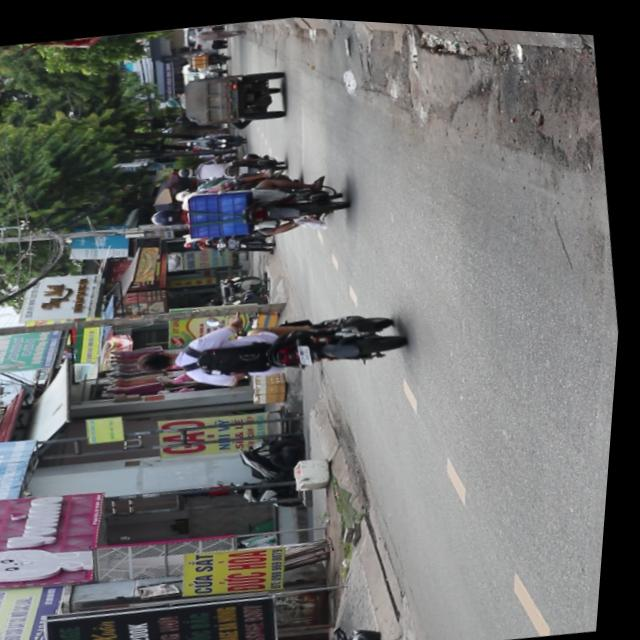helmet: (152, 206, 187, 228)
licenseplate: (131, 289, 415, 406), (145, 159, 355, 256)
motorcyclist: (137, 347, 181, 377)
